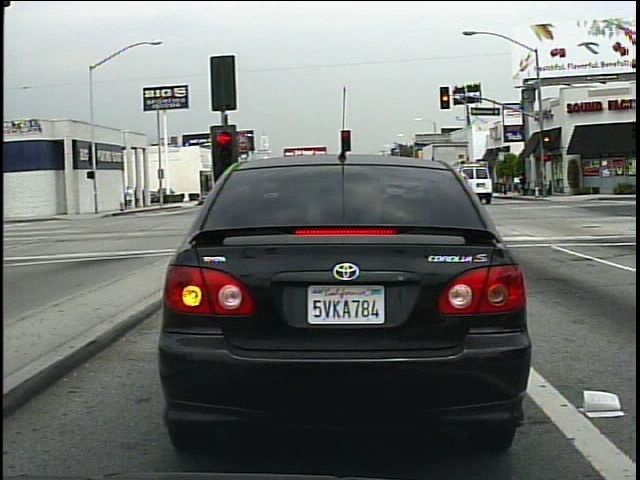person: (123, 183, 136, 211), (517, 170, 530, 197)
